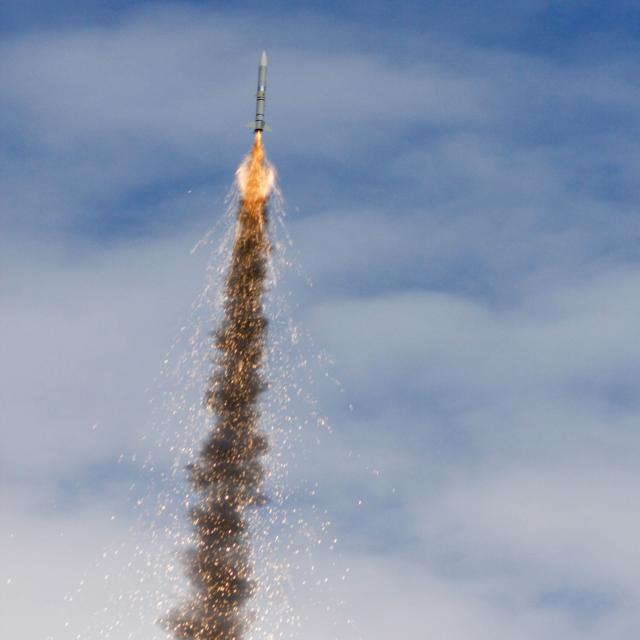Rocket: (244, 50, 272, 135)
